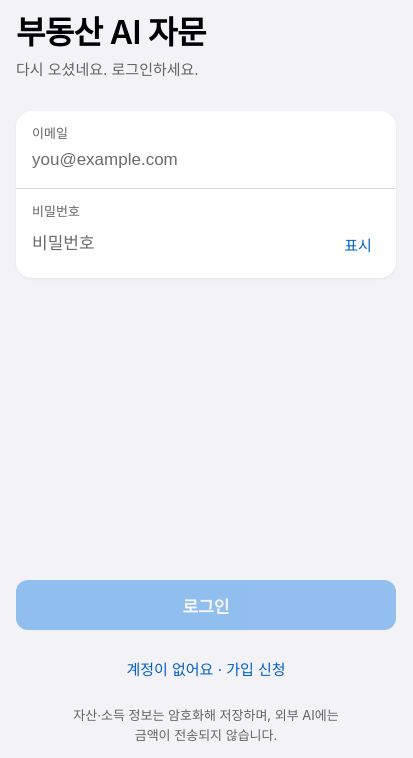
Test case: 로그인 › 실패 시 계정 존재를 드러내지 않는 합친 에러를 보인다
The image size is (413, 758).
Type "me@example.com" into the field labelled "이메일" at (206, 160), box [32,144,380,176]
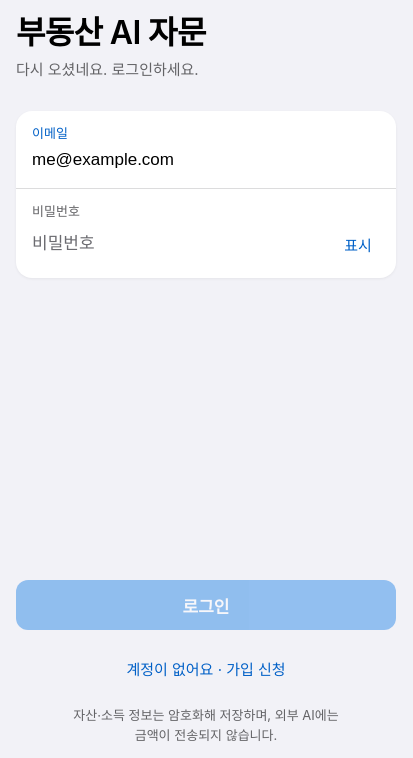
Type "password12345" into the password field labelled "비밀번호" at (180, 244), box [32,228,328,260]
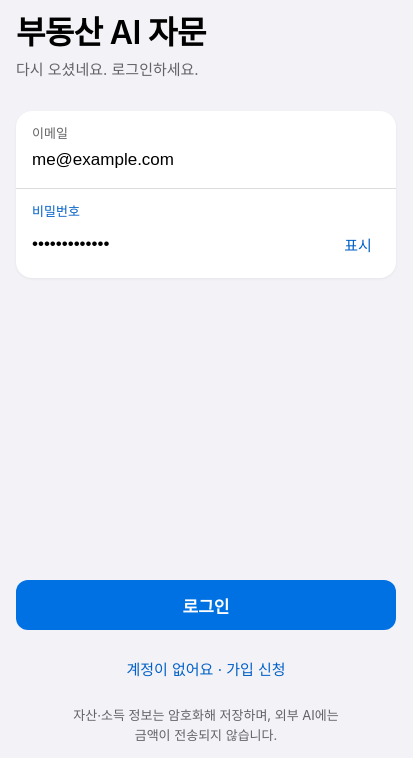
Click the button "로그인" at (206, 605), box [16,580,396,630]
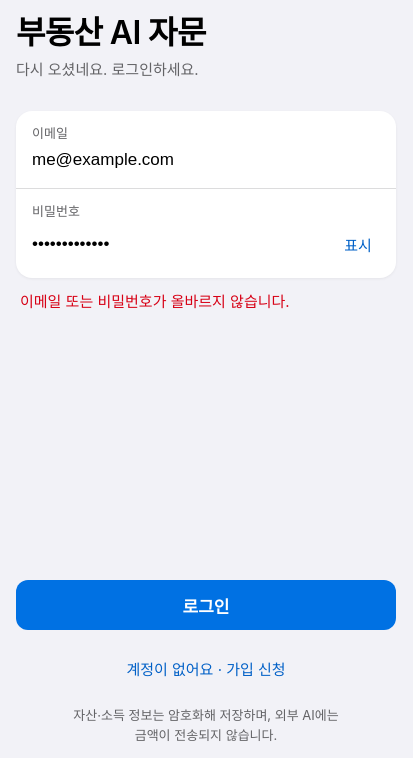
Check: the text "이메일 또는 비밀번호가 올바르지 않습니다." is shown, box [20,292,290,311]
